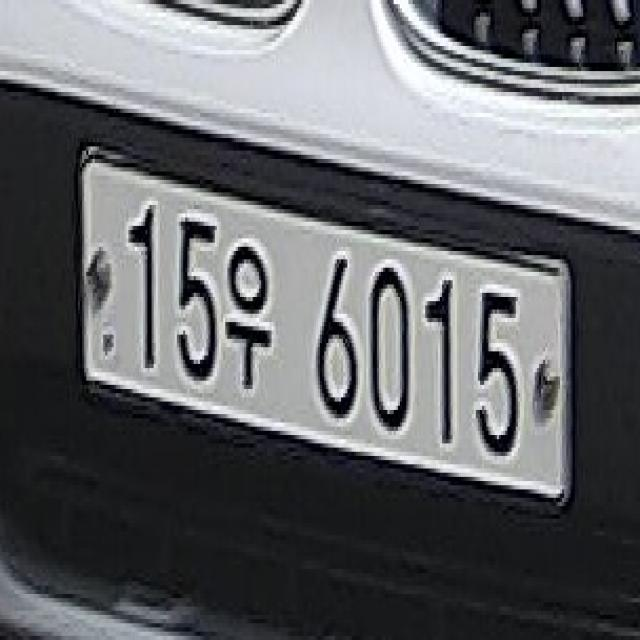0: (362, 251, 419, 443)
1: (417, 259, 465, 456), (120, 180, 166, 381)
5: (468, 272, 526, 464), (170, 201, 219, 389)
6: (303, 230, 362, 427)
license_plate: (69, 130, 579, 527)
u: (221, 222, 274, 406)
